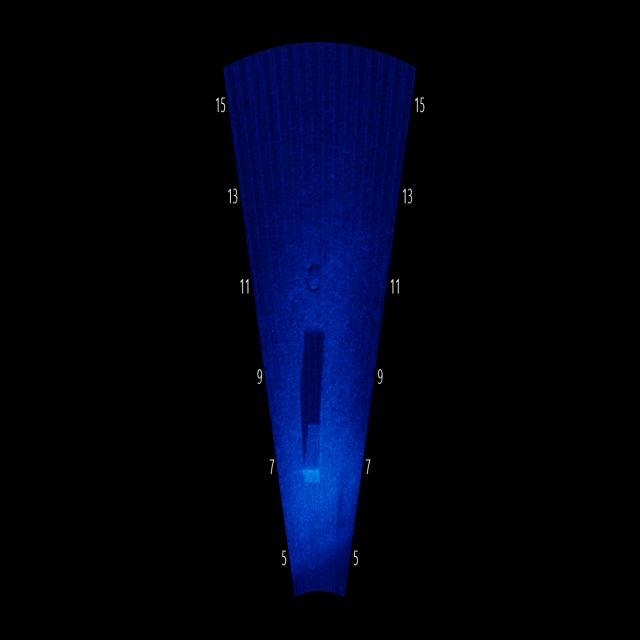square: (300, 406, 330, 498)
